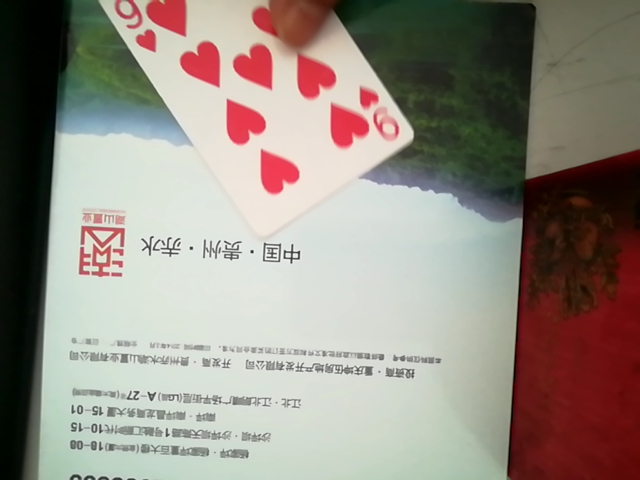hx 9: (95, 0, 414, 235)
